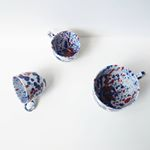cups: (89, 61, 150, 114), (10, 69, 50, 113), (44, 28, 82, 65)
